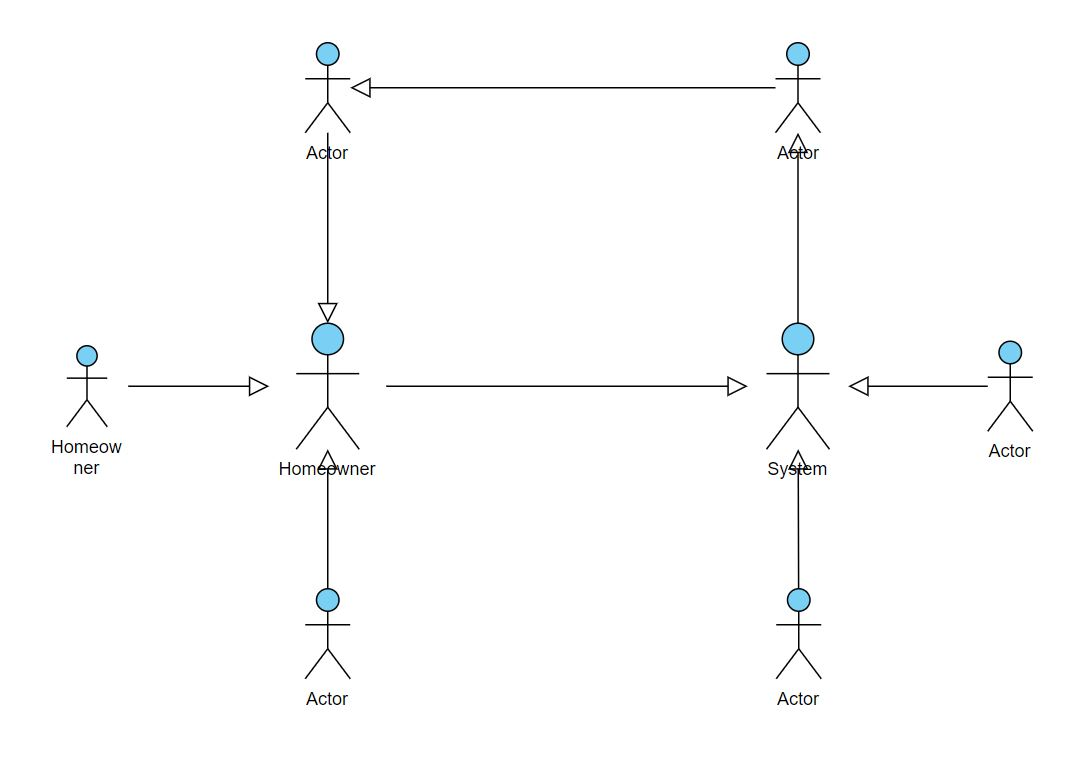actor: (292, 321, 362, 452), (766, 322, 830, 454), (301, 588, 350, 681), (987, 341, 1035, 435), (773, 590, 823, 679), (774, 40, 821, 133), (304, 40, 348, 133), (65, 344, 108, 428)
generalization: (351, 71, 778, 99), (382, 373, 749, 396), (847, 370, 992, 398), (787, 132, 808, 325), (318, 135, 337, 324), (127, 374, 270, 396), (786, 449, 808, 588), (316, 449, 337, 588)
text: (50, 437, 120, 476), (275, 458, 381, 483), (300, 140, 356, 168), (763, 457, 830, 480), (768, 688, 831, 712), (983, 438, 1033, 466), (302, 684, 351, 711), (776, 145, 823, 164)
